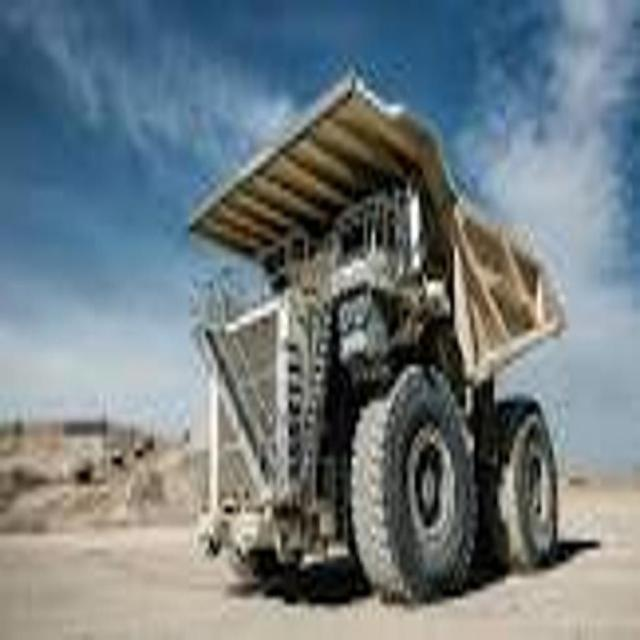dump_truck: (186, 60, 565, 604)
